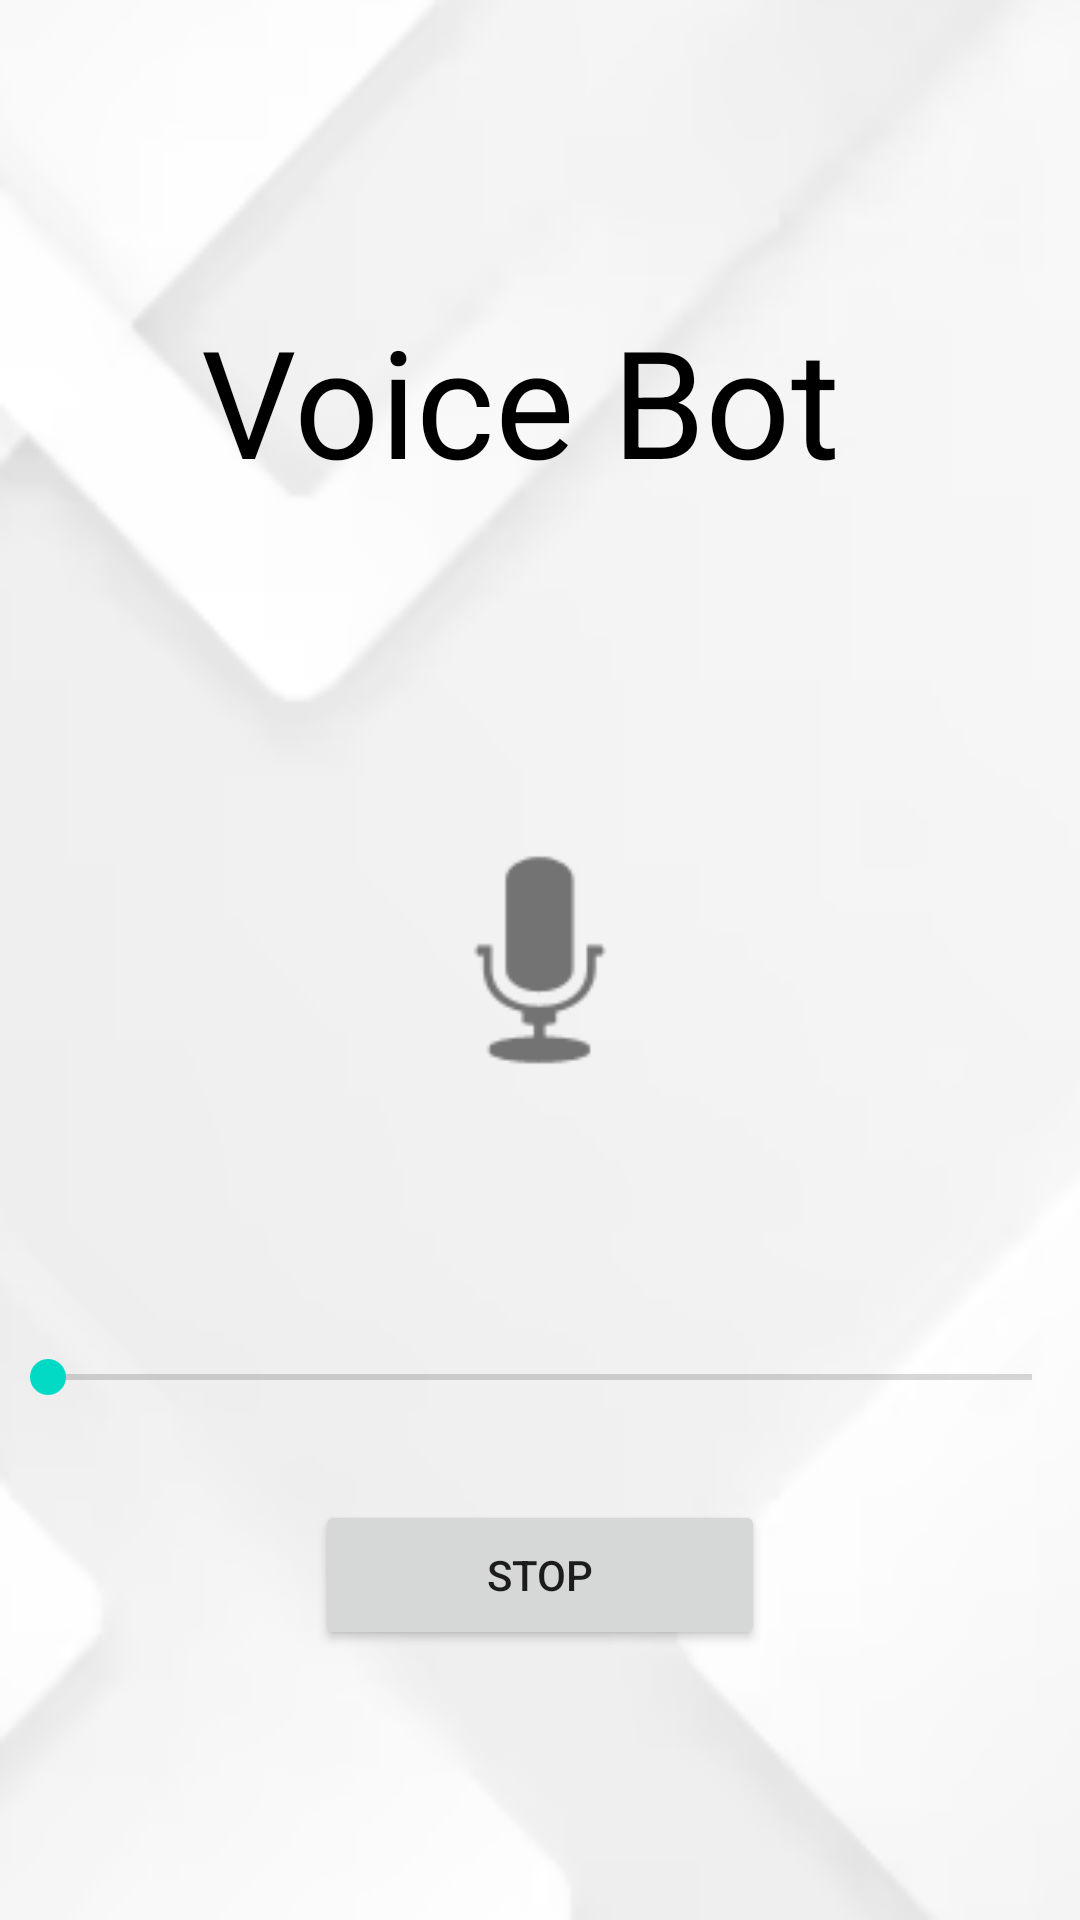

Icons on this 1080×1920 Android screen, each with its box as (x1, y1, x2, y2):
speak now: (474, 856, 605, 1064)
